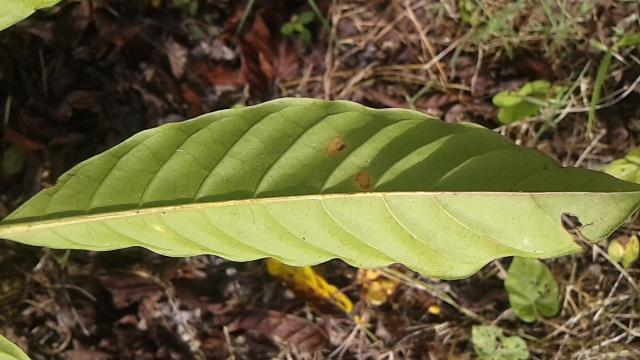rust_level_1: (0, 90, 640, 283)
